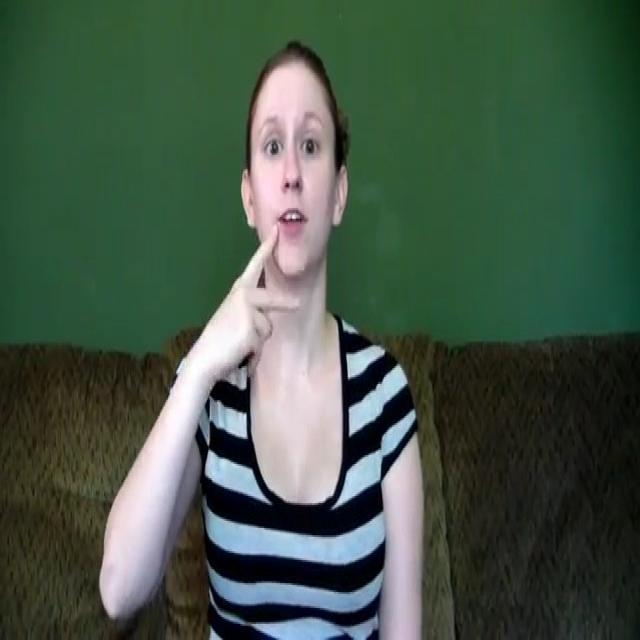vegetables: (202, 224, 304, 388)
